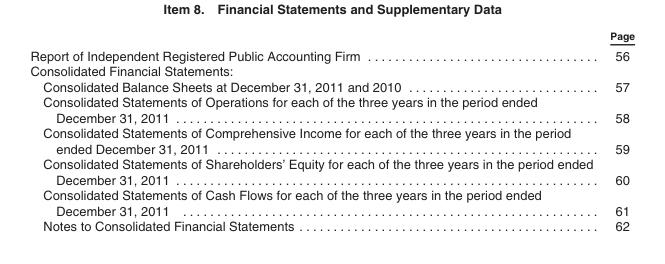table: (29, 29, 634, 233)
table column: (29, 29, 600, 233), (600, 29, 634, 233)
table column header: (29, 29, 634, 44)
table projected row header: (29, 63, 634, 78)
table row: (29, 94, 634, 125), (29, 125, 634, 156), (29, 156, 634, 187), (29, 187, 634, 218), (29, 44, 634, 63), (29, 78, 634, 94), (29, 29, 634, 44), (29, 63, 634, 78), (29, 218, 634, 233)
